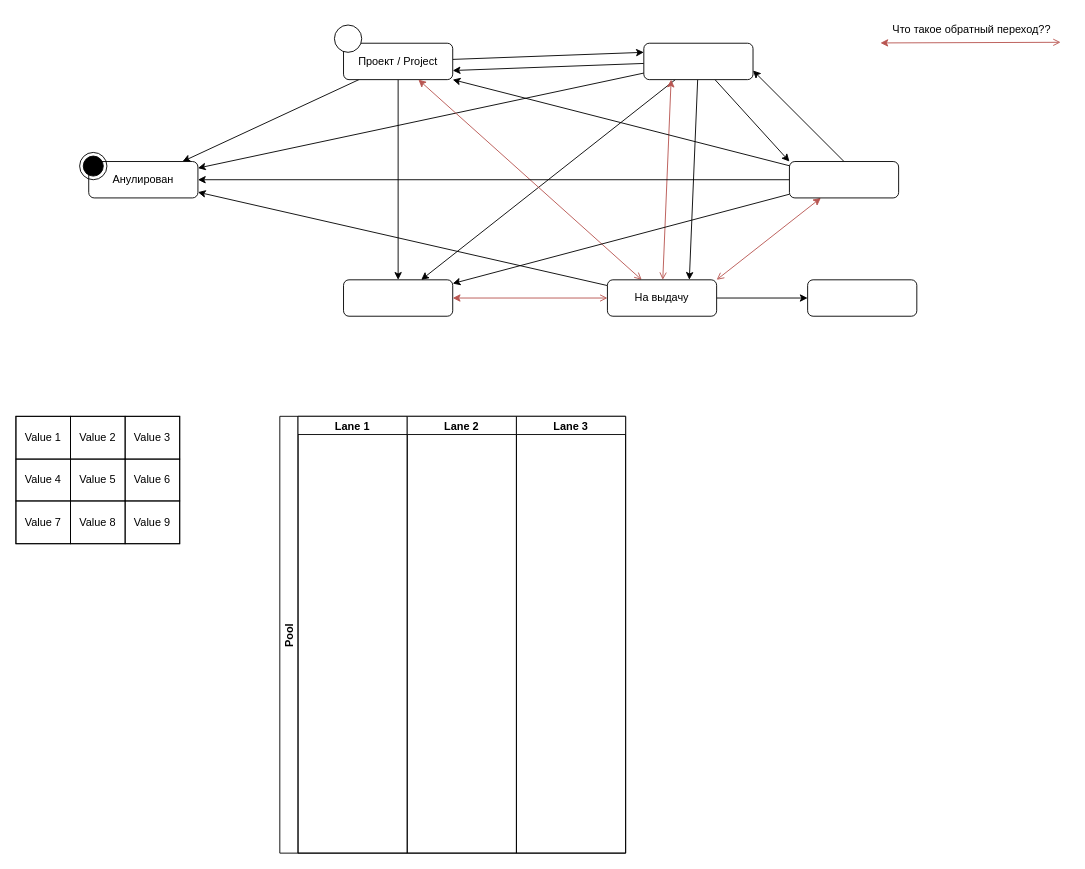
This 1085x869 diagram has some shape labels left out. The centre of each missing label's shape, as x and y in pixels:
"Выдан заявителю" goes at [862,297].
"На визировании" goes at [398,297].
"На подписи" goes at [844,179].
"Подписан" goes at [698,61].
